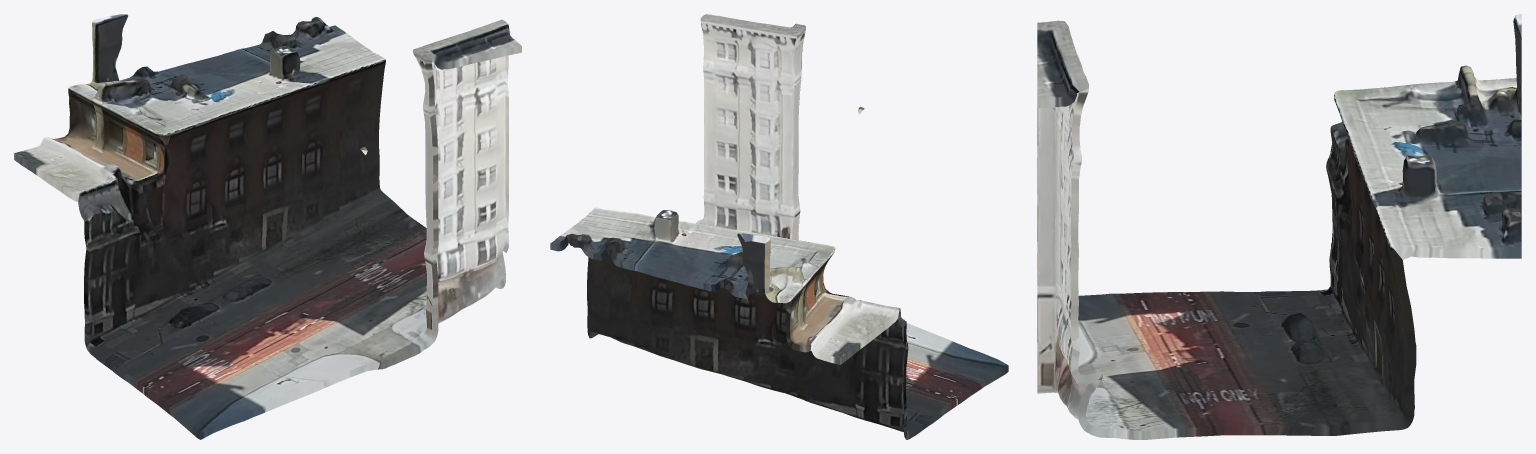
File: z20-167746-405241-h0-yup-uvflip-v3-world.glb
3 renders of one model, left to right at view 1: azimuth 30°, elevation 25°; view 2: azimuth 150°, elevation 25°; view 3: azimuth 270°, elevation 25°, orthographic. The views are drawn at different scales.
Bounding box in the file's own units: 30.16 × 29.52 × 30.32.
Materials: 1 (1 with a texture image).
